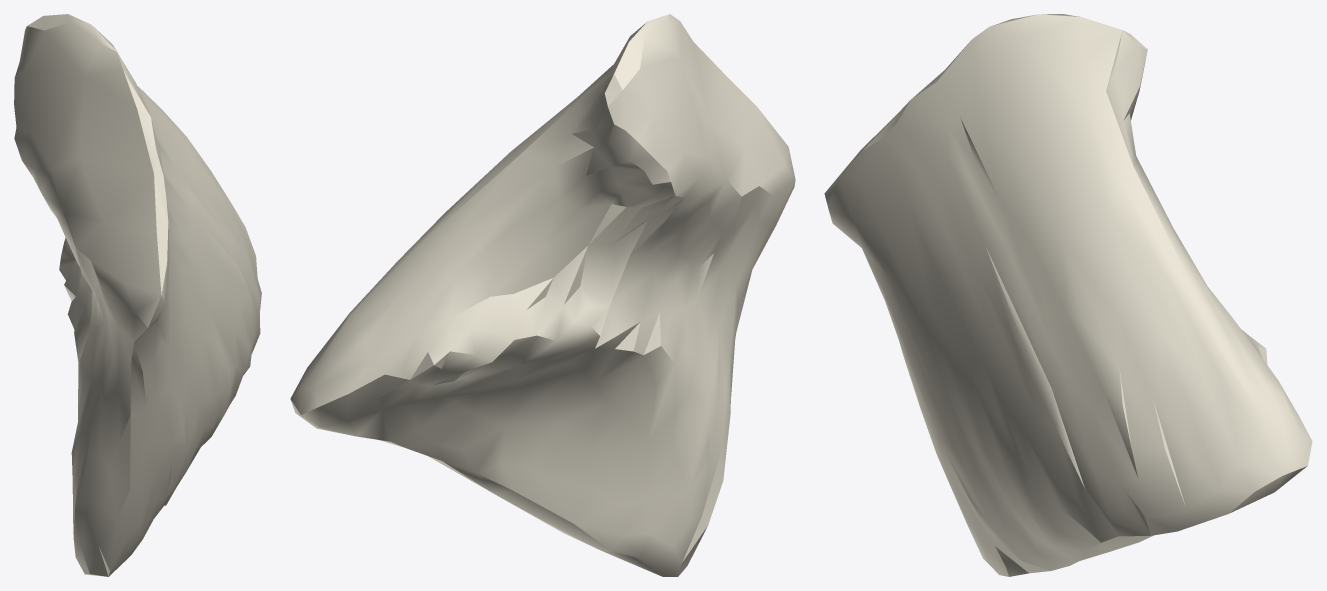
File: fma312041_mm1400.glb
3 renders of one model, left to right at view 1: azimuth 30°, elevation 25°; view 2: azimuth 150°, elevation 25°; view 3: azimuth 270°, elevation 25°, orthographic. The views are drawn at different scales.
Parts seen in each view (by area): view 1: FMA312041_MM1400; view 2: FMA312041_MM1400; view 3: FMA312041_MM1400.
Boxes of the visible parts, bbox=[...] form: FMA312041_MM1400: bbox=[14, 14, 261, 576]; FMA312041_MM1400: bbox=[290, 14, 795, 576]; FMA312041_MM1400: bbox=[824, 14, 1312, 576].
Bounding box in the file's own units: 0.0117 × 0.0207 × 0.0163.
